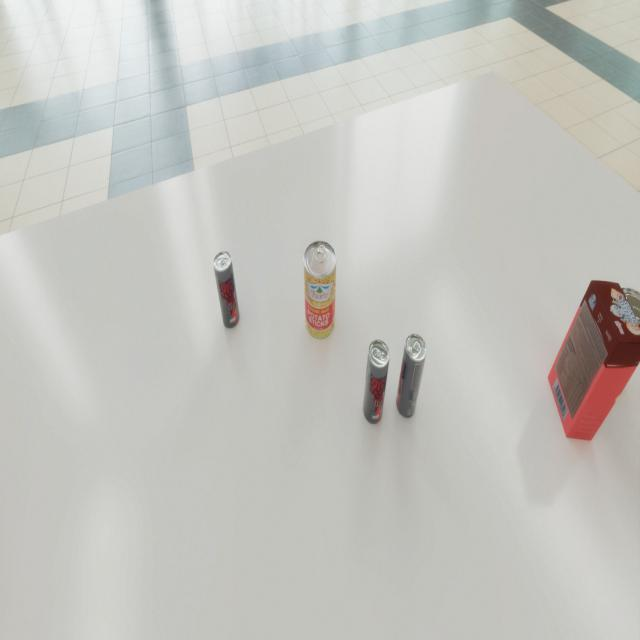HelloPanda: (548, 280, 640, 441)
Potato_sticks: (584, 287, 640, 393), (303, 240, 337, 340)
Rita_zero_sugar: (396, 333, 427, 418), (363, 339, 390, 424), (213, 251, 240, 329)
